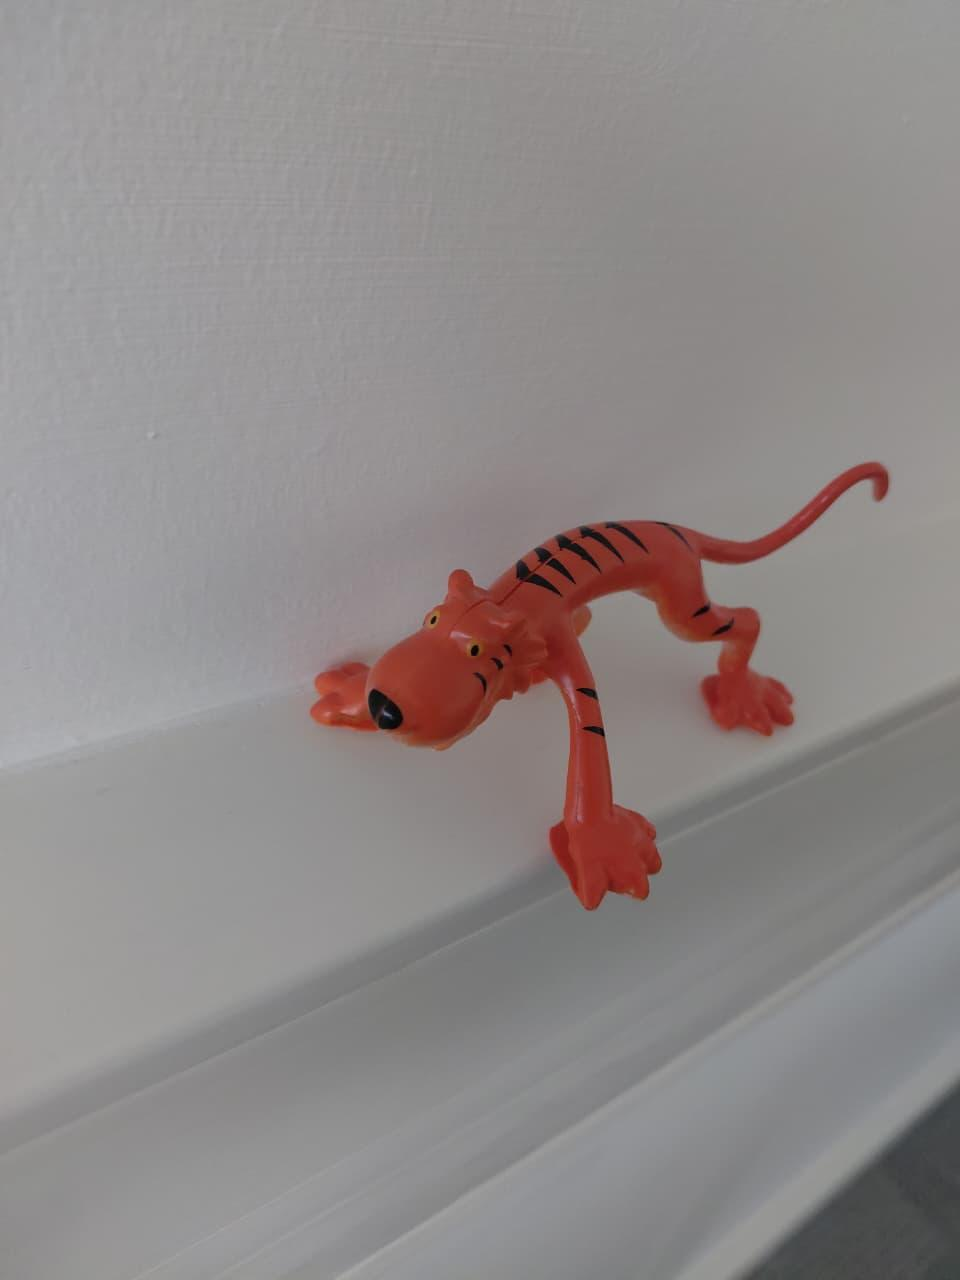tiger: (270, 373, 899, 927)
